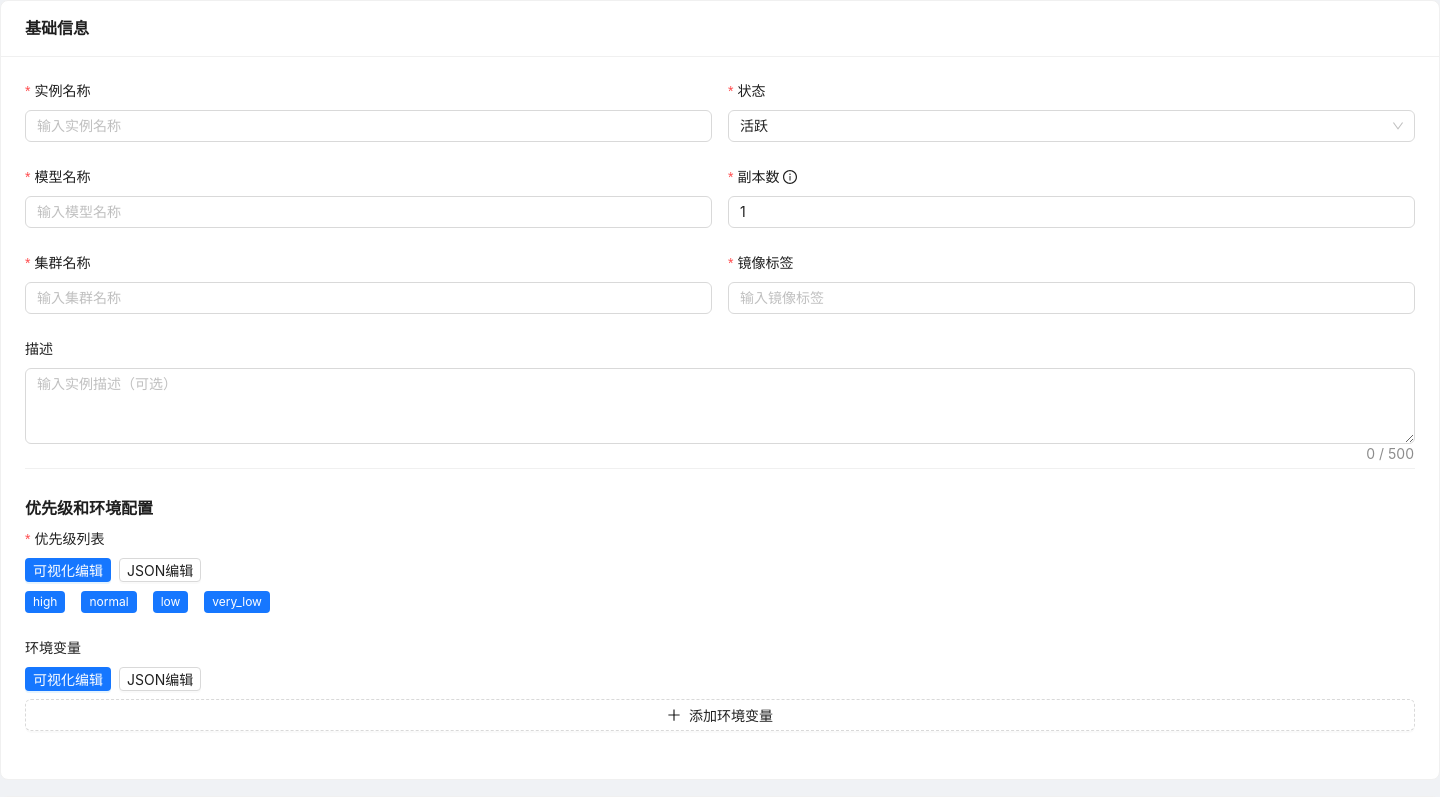
InstanceForm › form validation › should validate instance name format
This screenshot has width=1440, height=797.
Step 1. Type "invalid name with spaces" into the field labelled "实例名称" → (368, 126), box [25,110,712,142]
(page scrolled)
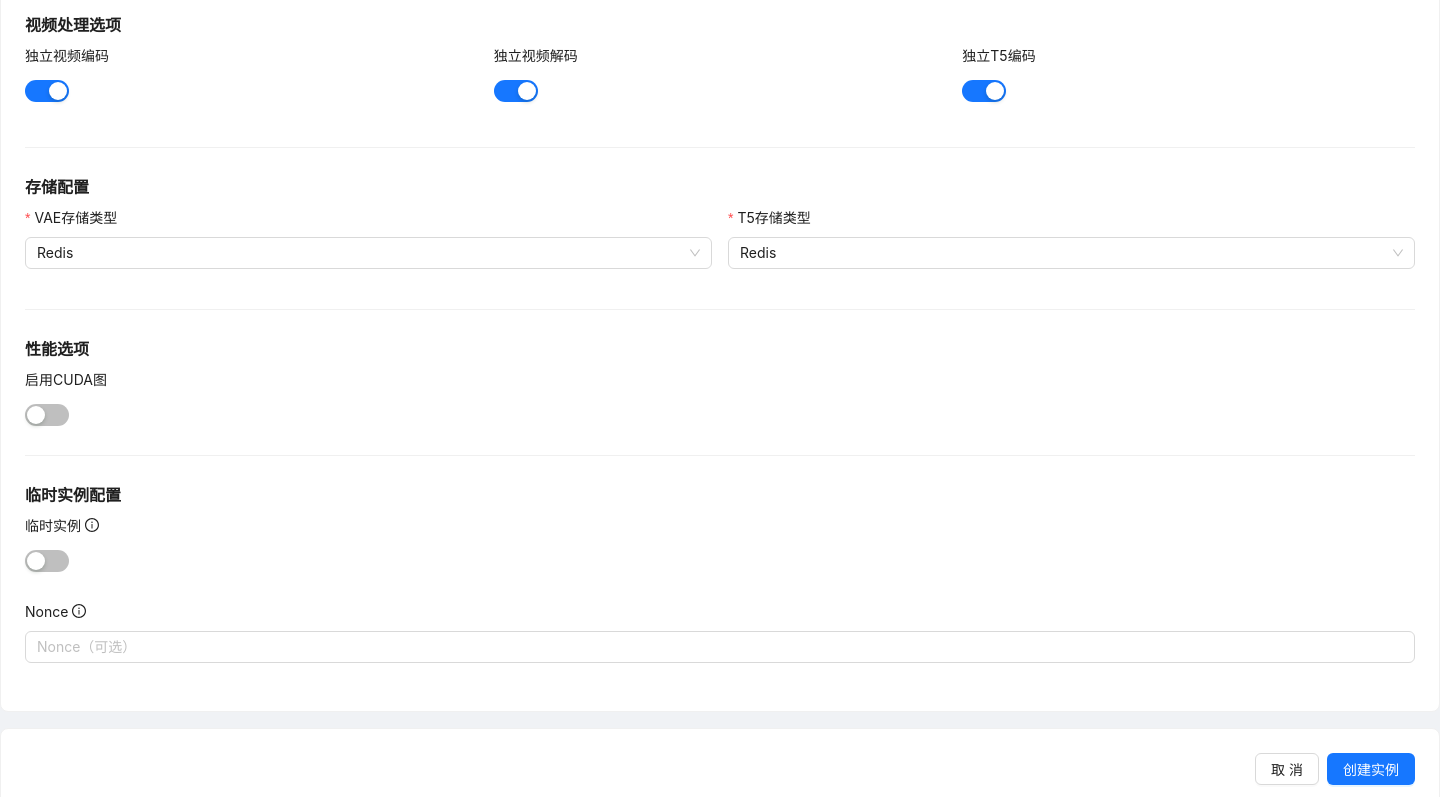
Step 2. Click the button "创建实例" → (1371, 769), box [1327,753,1415,785]
(page scrolled)
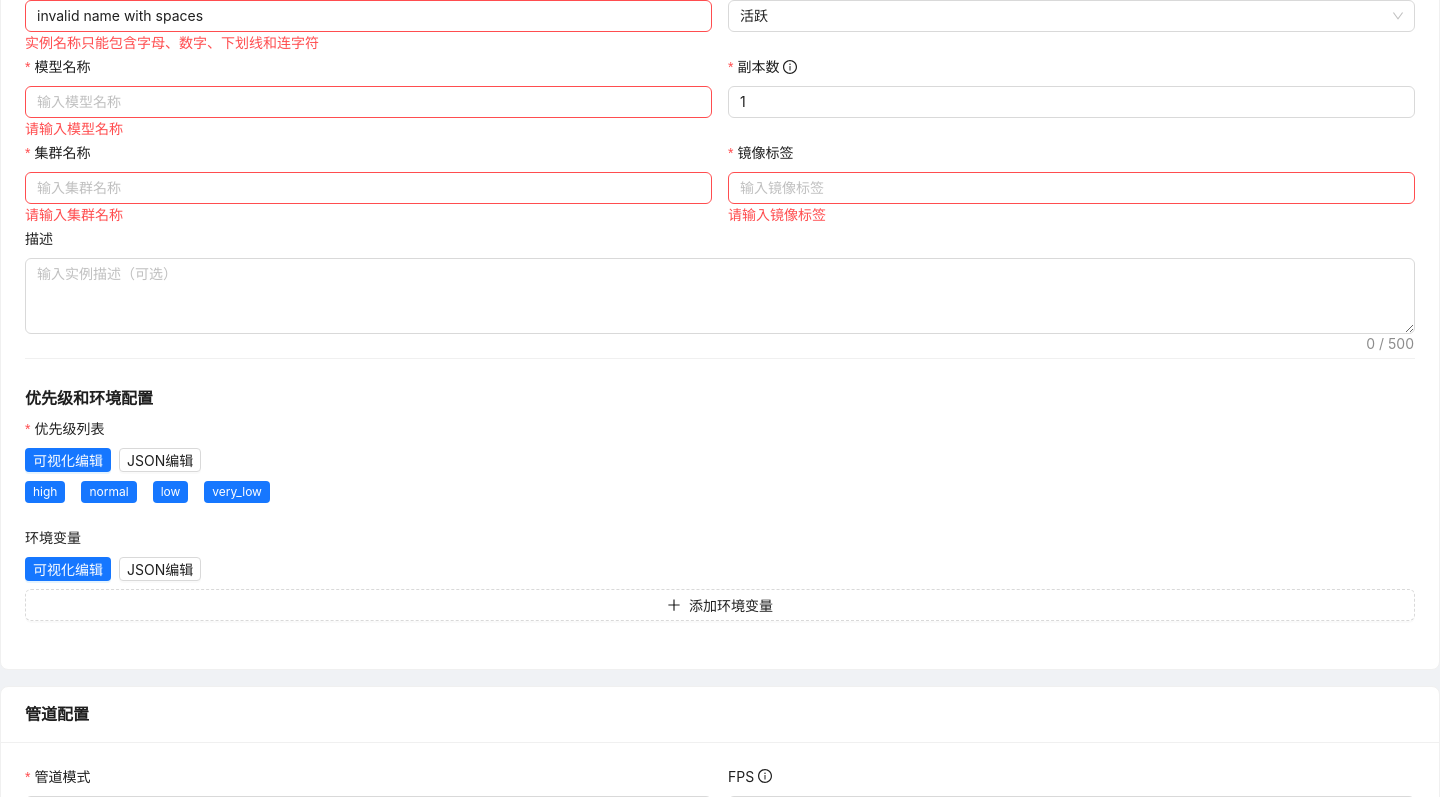
Now the text "实例名称只能包含字母、数字、下划线和连字符" is shown, box [25,34,319,51]
